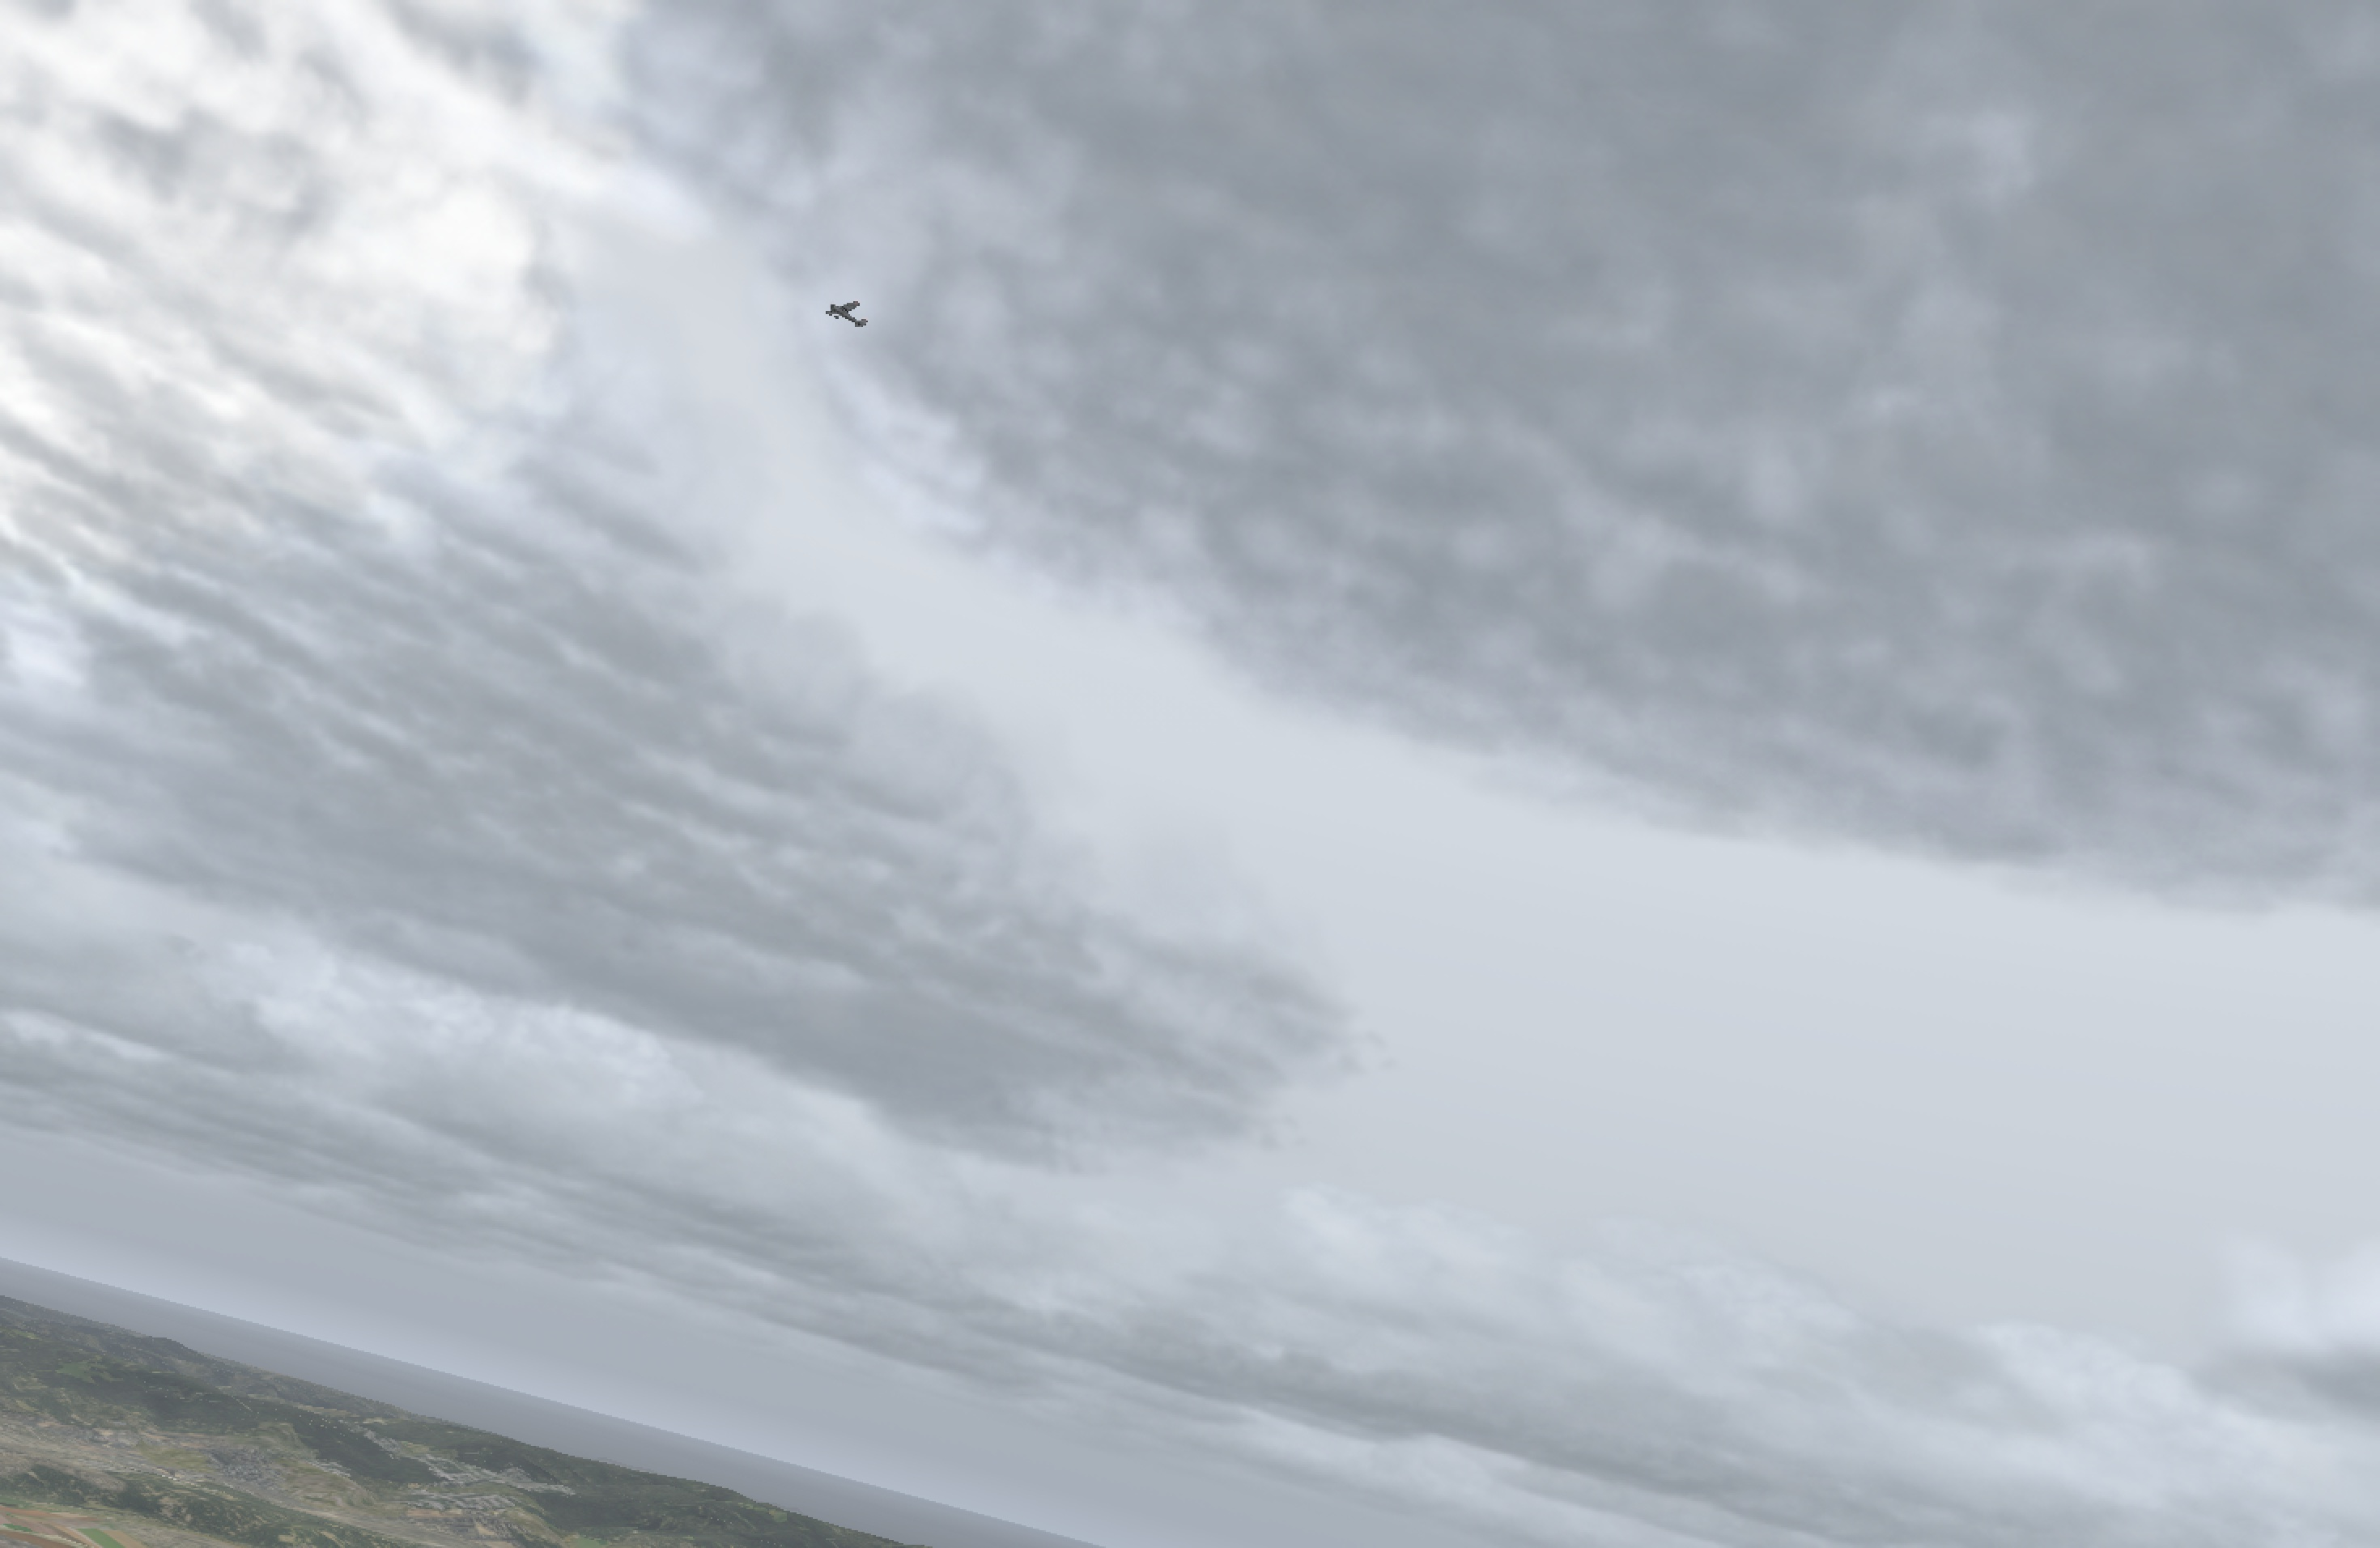aircraft: (821, 302, 860, 318)
